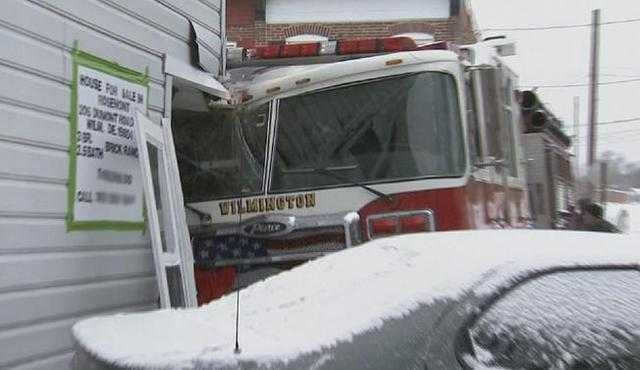Fire Truck: (153, 24, 590, 274)
